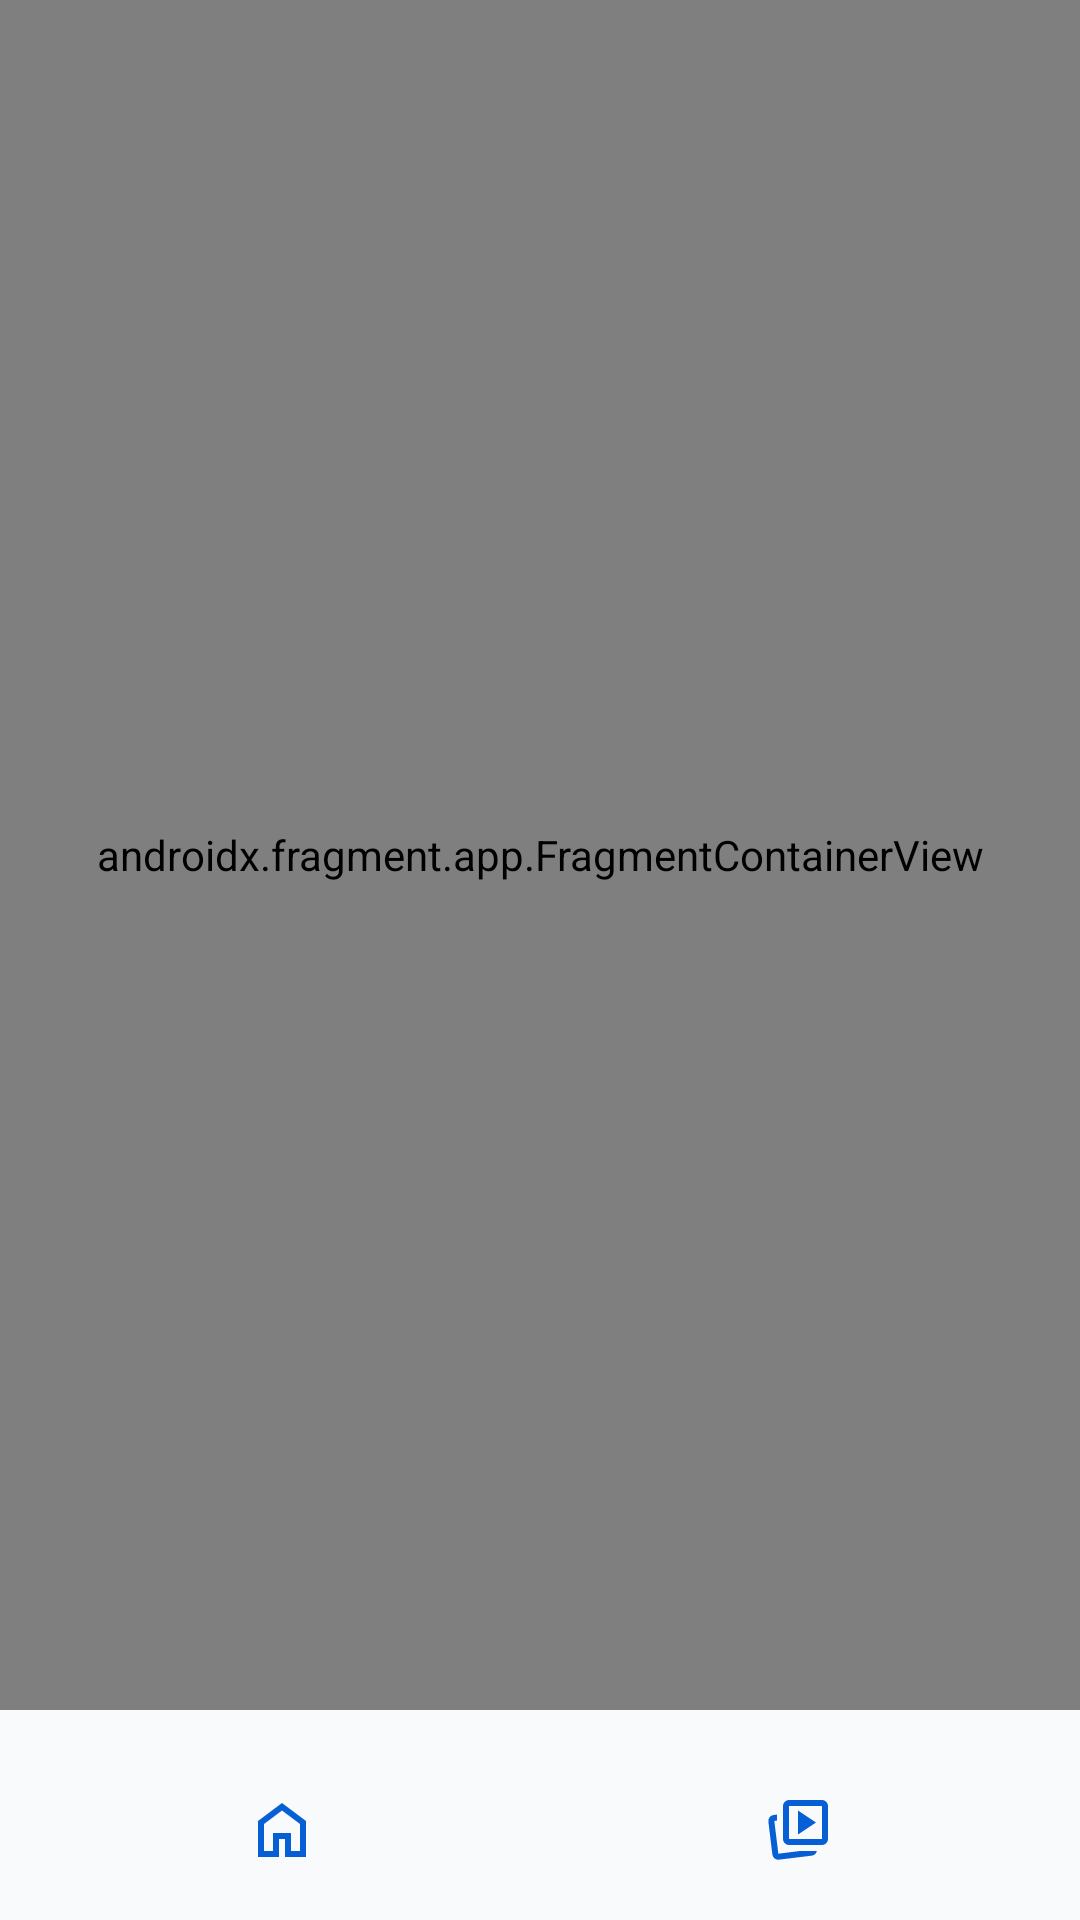

Icon click points for this 1080px×1920px phone screenshot, format (x,y):
Home Icon: (282,1830)
Shorts Icon: (798,1830)
